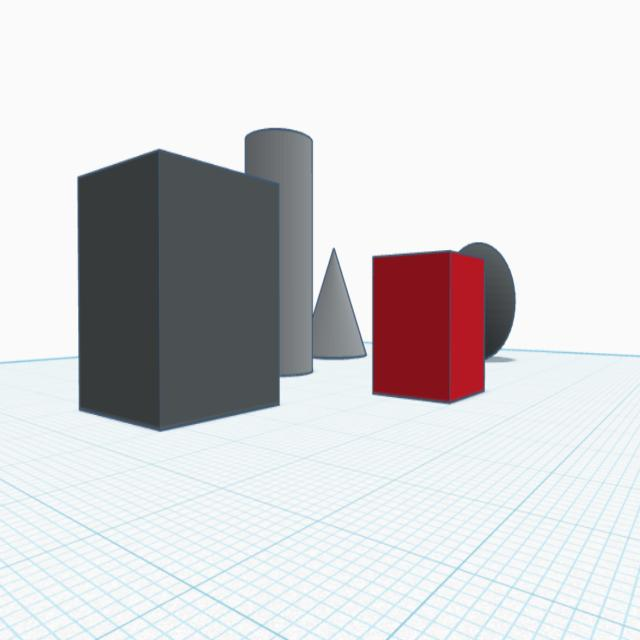cube: (75, 147, 283, 436), (368, 248, 488, 404)
